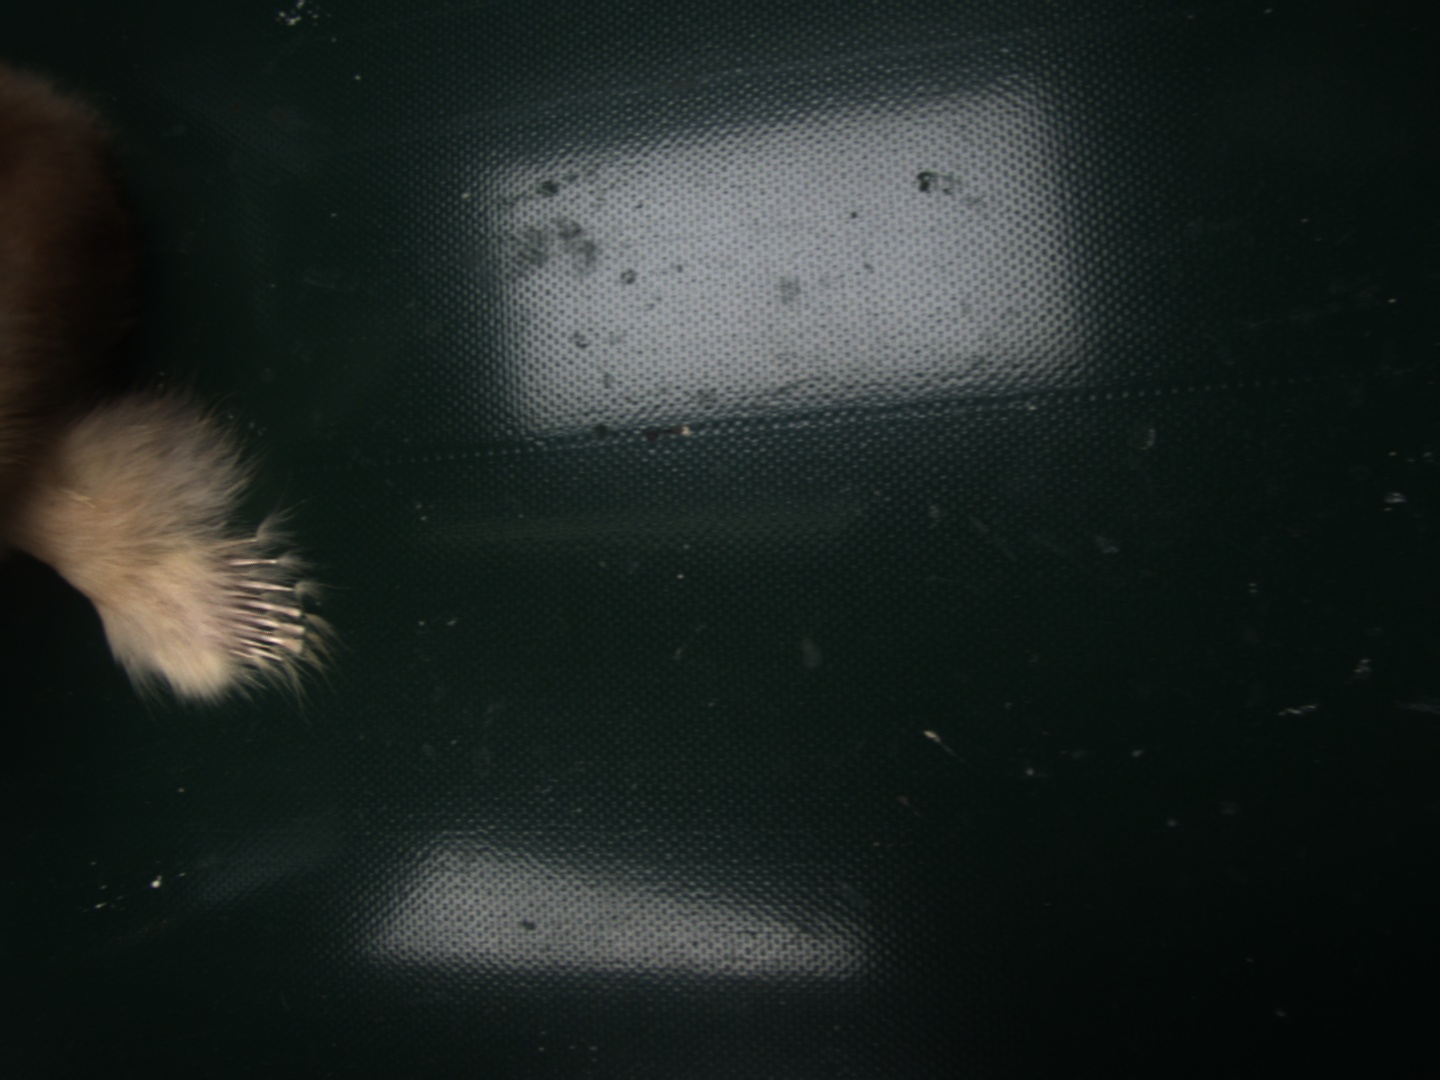female: (200, 535, 305, 666)
